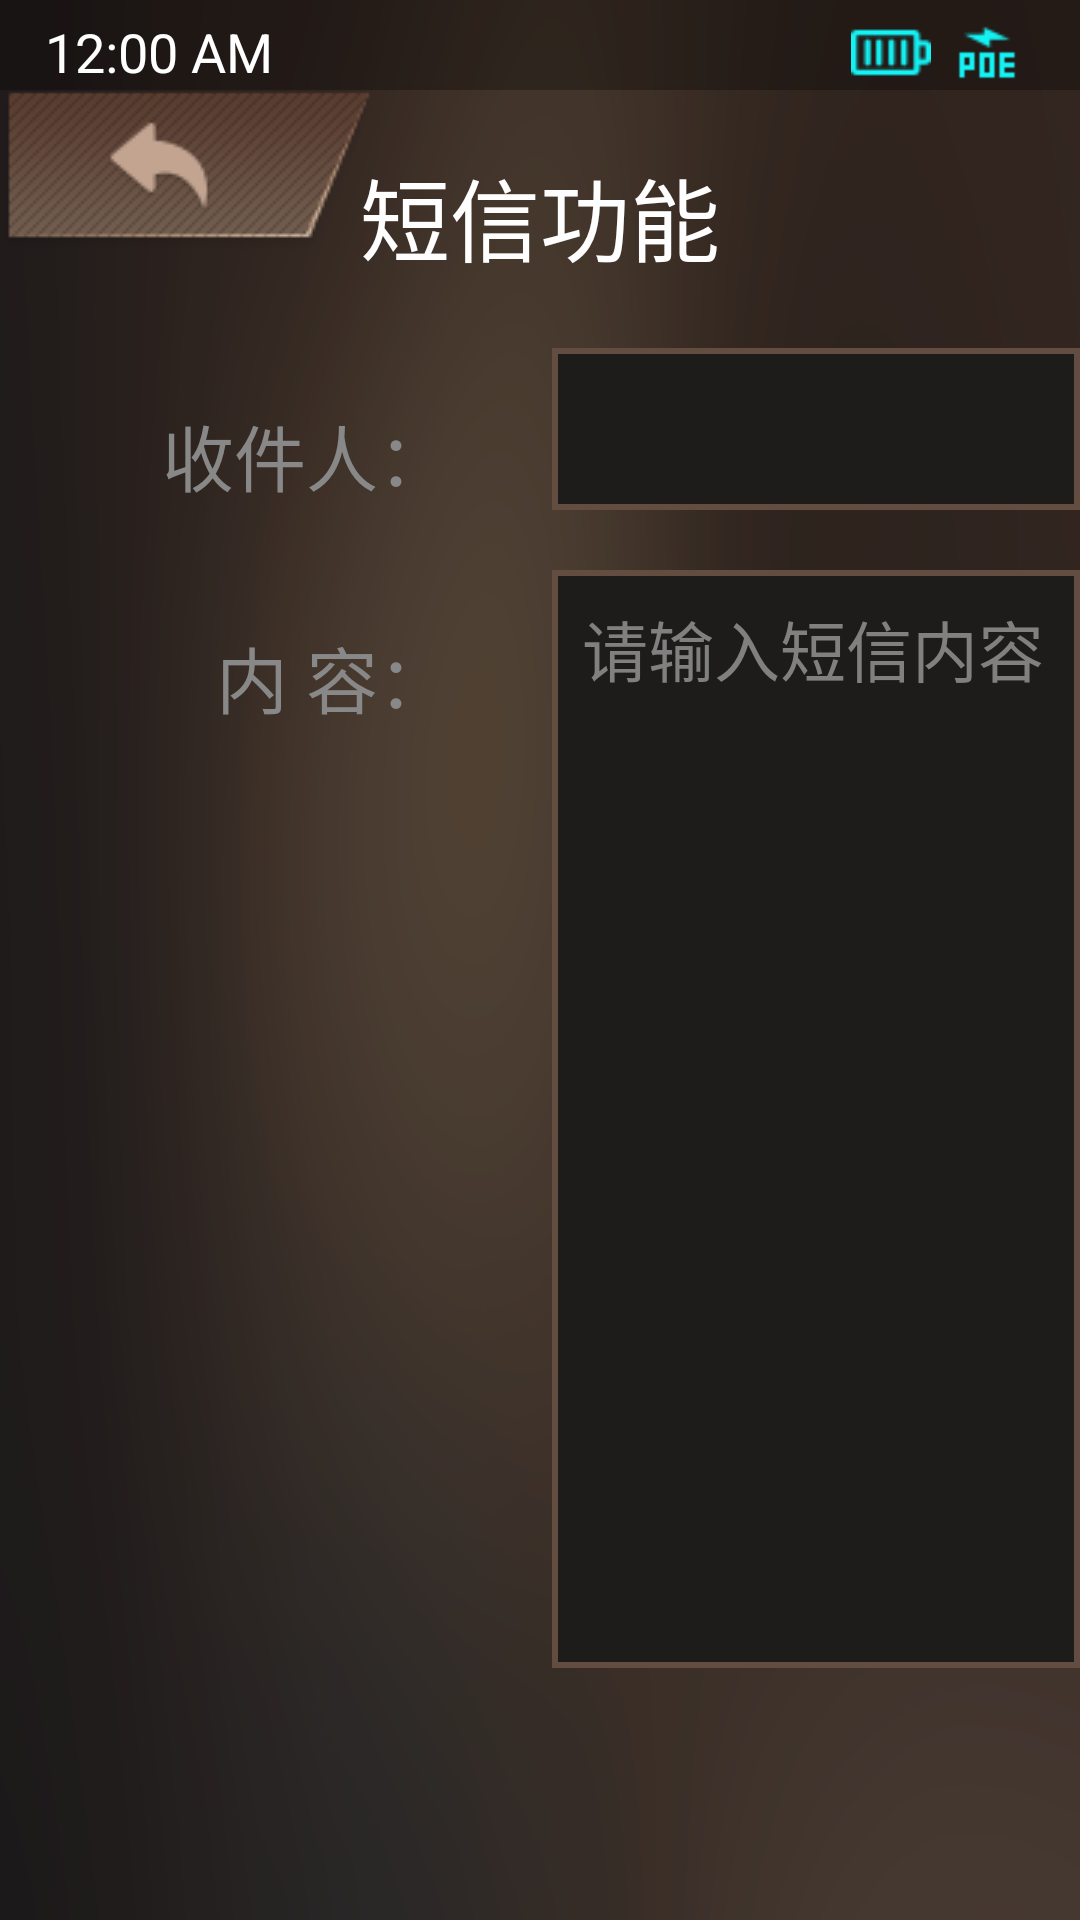

Named icons in this screenshot (1080*1920) and their bounding boxes, bbox=[x1, y1, x2, y2]:
battery level list: bbox=[851, 29, 931, 76]
